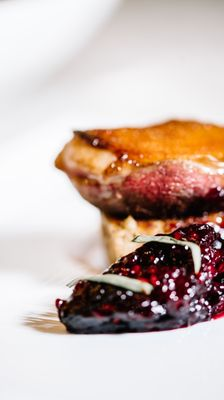soup: (53, 119, 223, 334)
